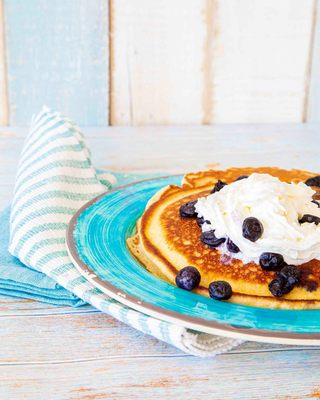curry: (0, 105, 320, 381)
sushi: (126, 167, 320, 307)
